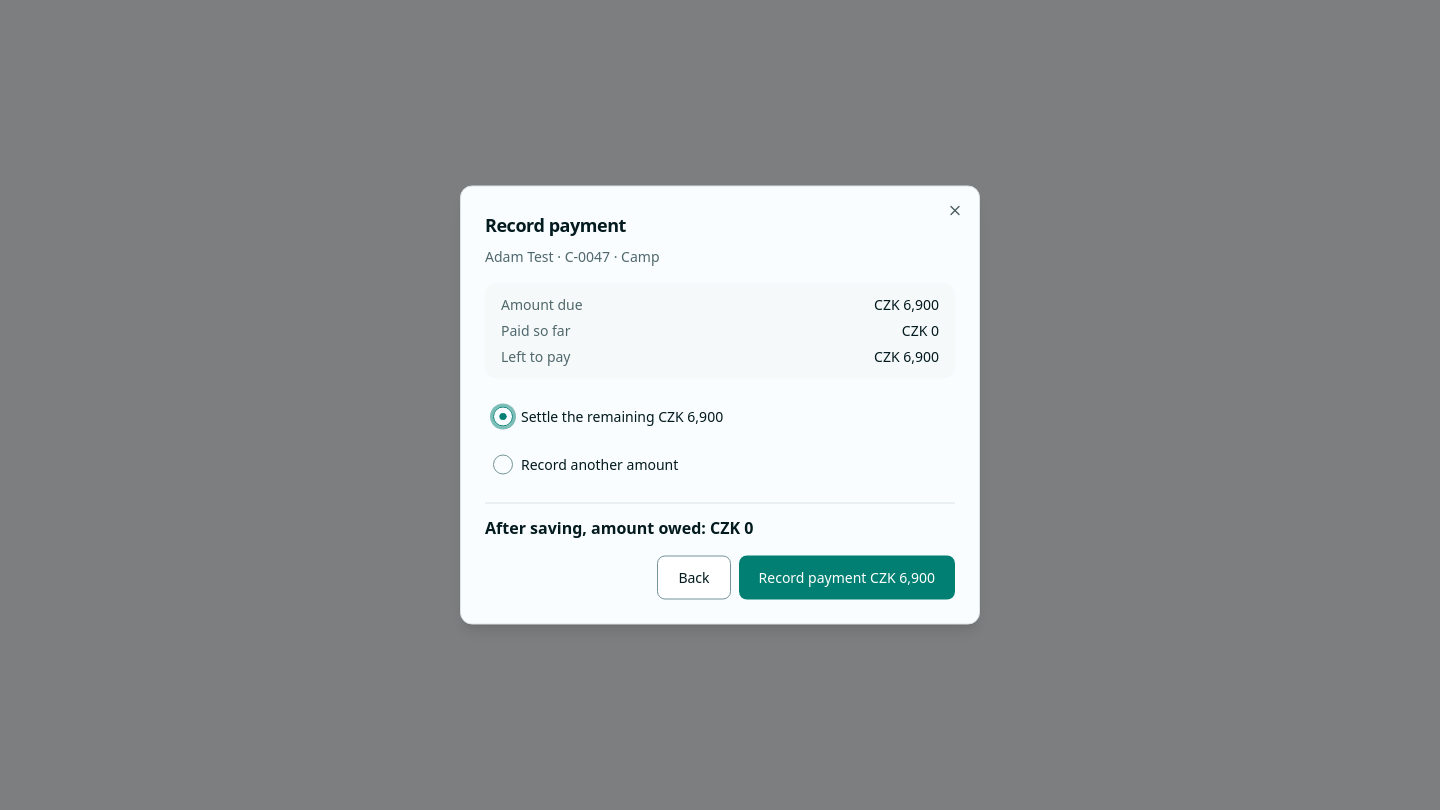
Test: PaymentEditor › rejects -1 without recording a receipt
Click the radio button named "Record another amount" next to "Record another amount".
click(503, 464)  # box [493, 454, 513, 474]
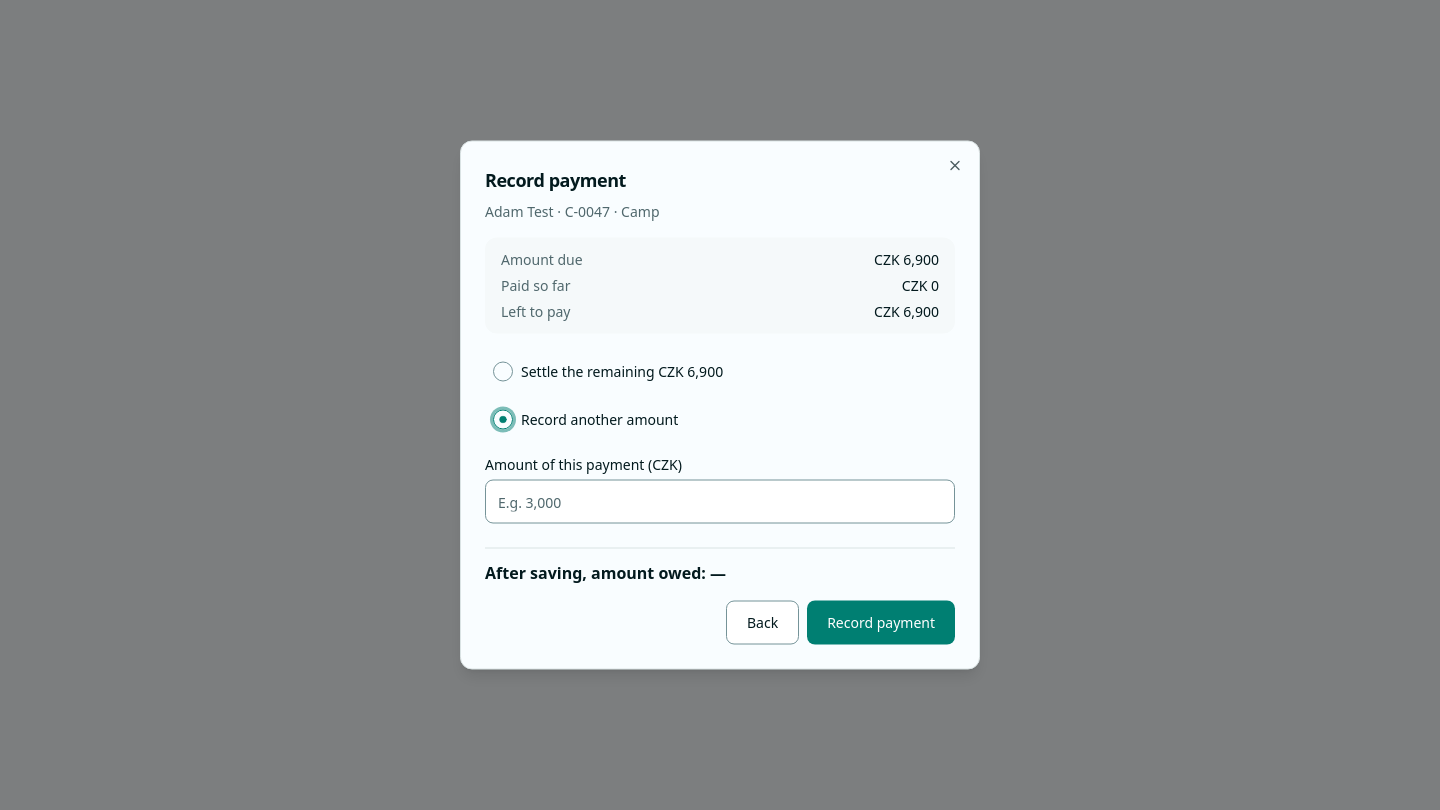
Type "-1" into the field labelled "Amount of this payment (CZK)".
click(720, 502); type("-1")  # box [485, 480, 955, 524]
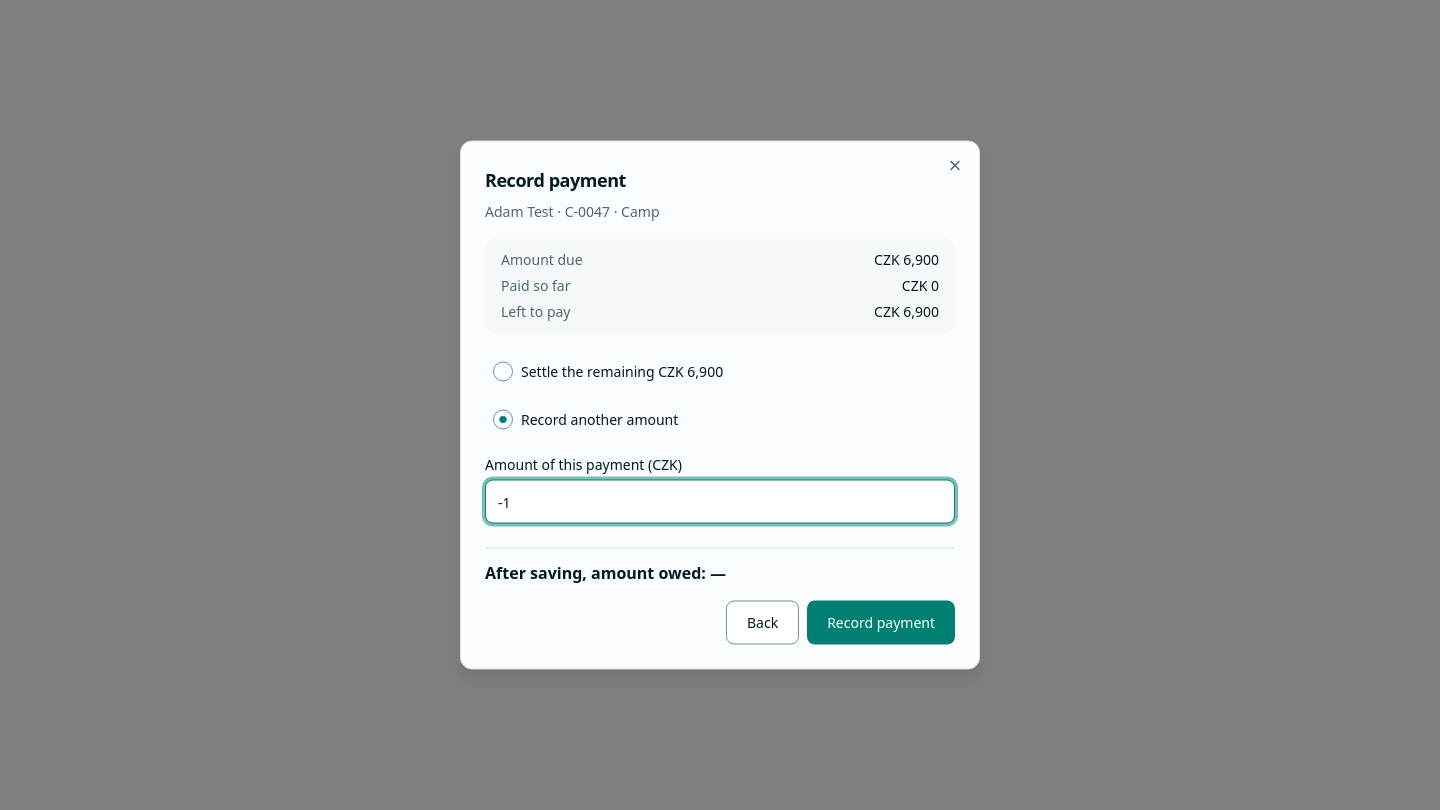
Click the button "Record payment".
click(881, 622)  # box [807, 600, 955, 644]
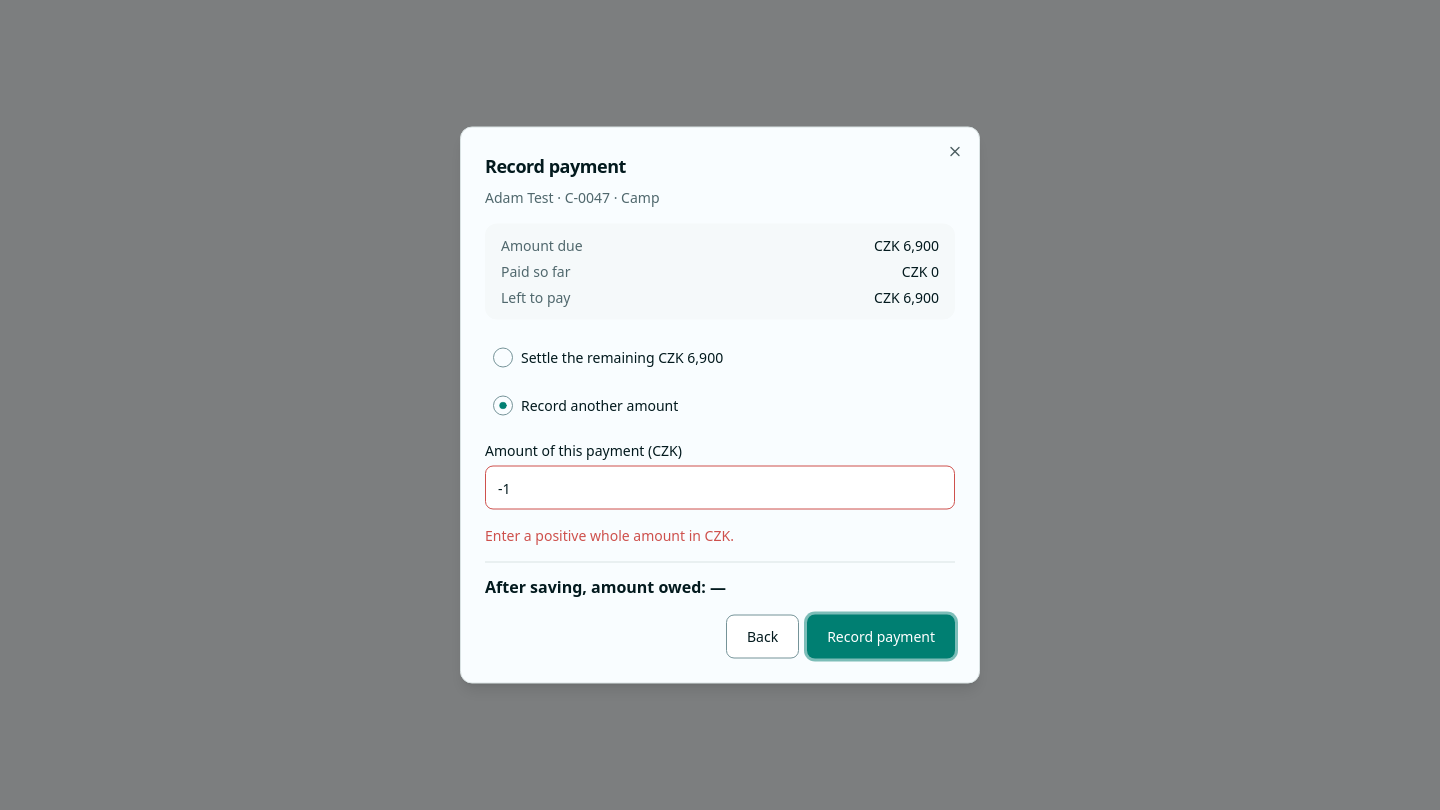
Check: the text "After saving, amount owed: —" is shown, box [485, 562, 955, 598]
Check: the message reads "Enter a positive whole amount in CZK.", box [485, 526, 734, 544]
